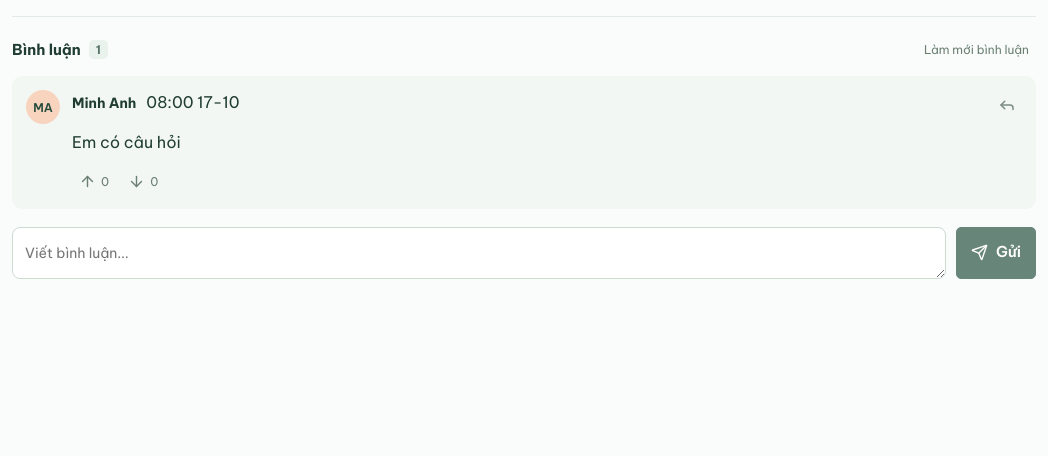
retains a failed reply draft and submits it to the selected comment
Click the button named "Trả lời Minh Anh". click: coordinates (1007, 105)
box: left=992, top=90, right=1022, bottom=120
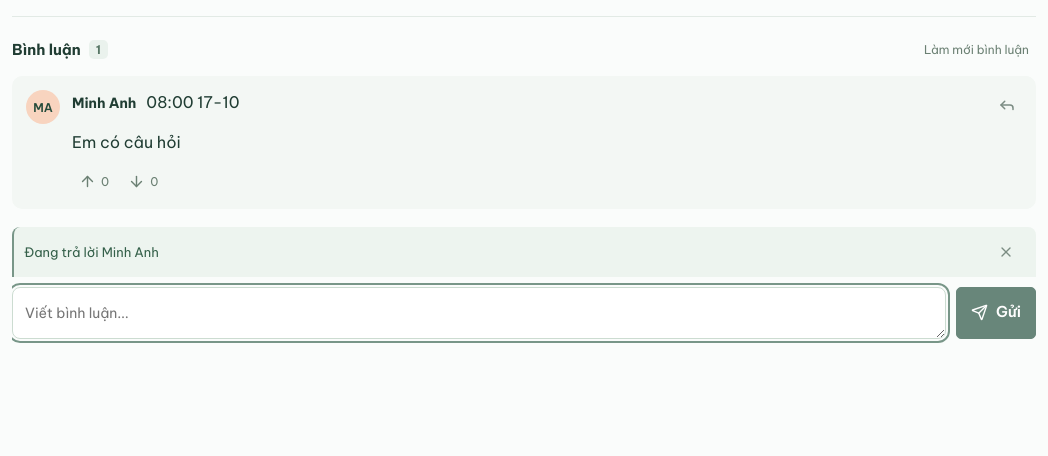
Type "Câu trả lời" into the text box named "Nội dung bình luận". click: coordinates (479, 313)
box: left=12, top=287, right=946, bottom=339
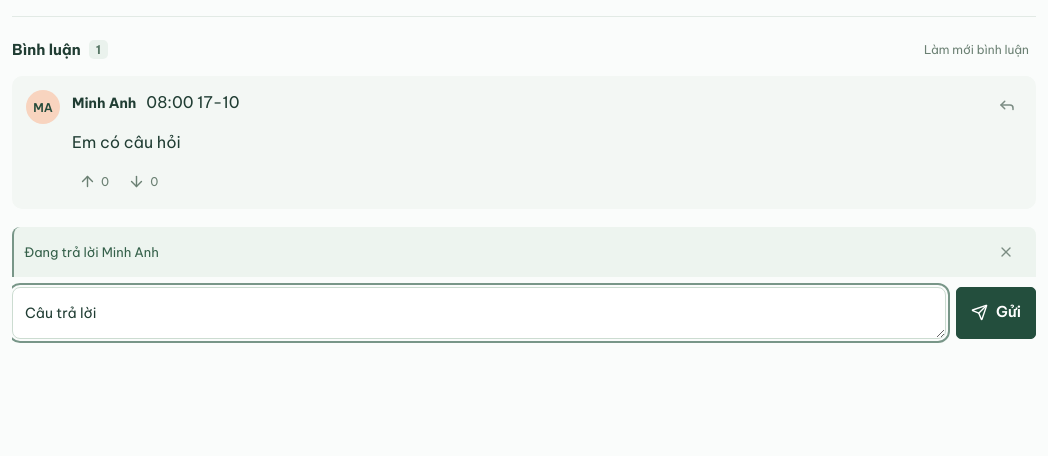
Click the button with aria-label "Gửi bình luận". click: coordinates (996, 313)
box: left=956, top=287, right=1036, bottom=339
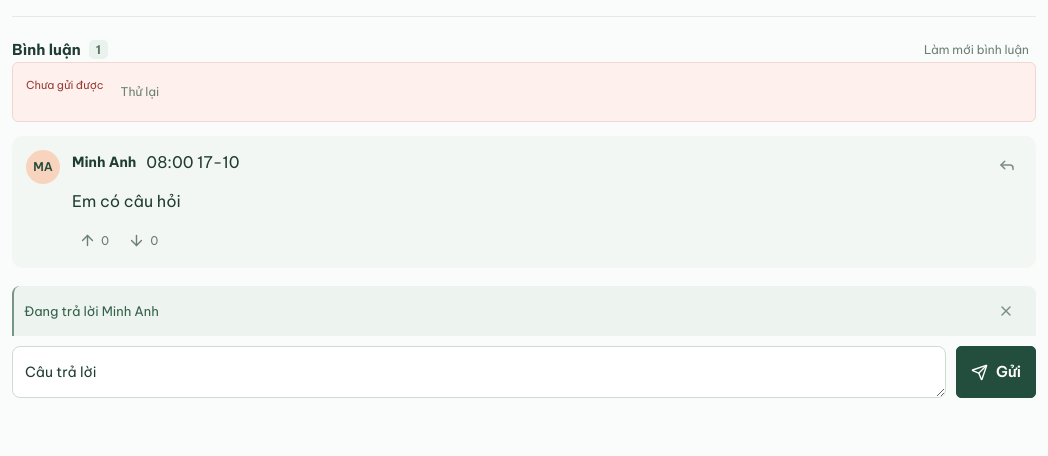
Result: the text "Chưa gửi được" is shown at left=26, top=78, right=104, bottom=92
Click the button with aria-label "Gửi bình luận". click: coordinates (996, 372)
box: left=956, top=346, right=1036, bottom=398
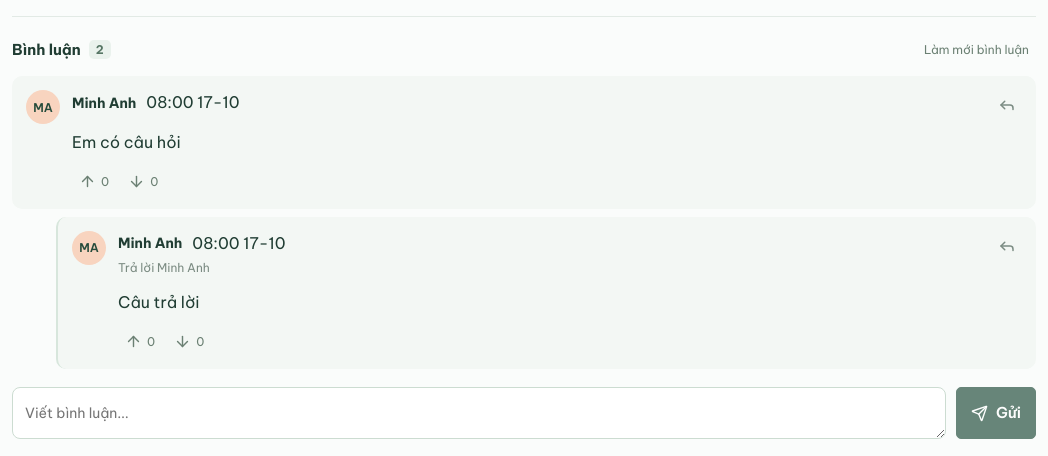
Result: the text "Câu trả lời" is shown at left=118, top=292, right=200, bottom=312
